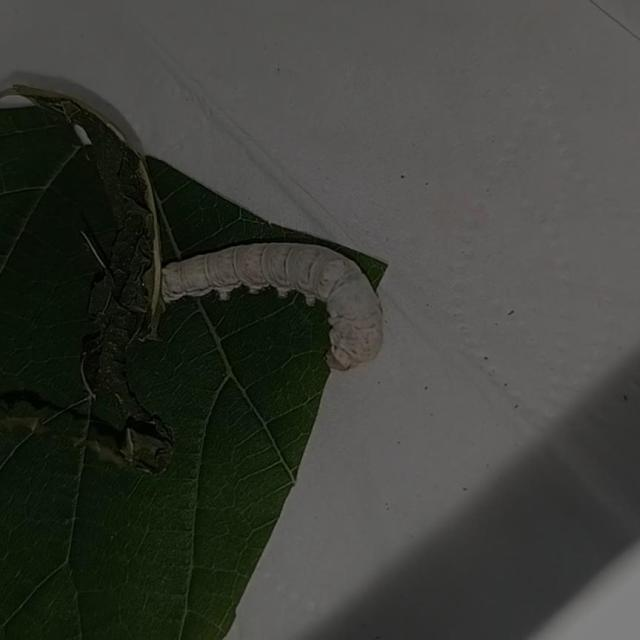Healthy: (111, 166, 437, 411)
